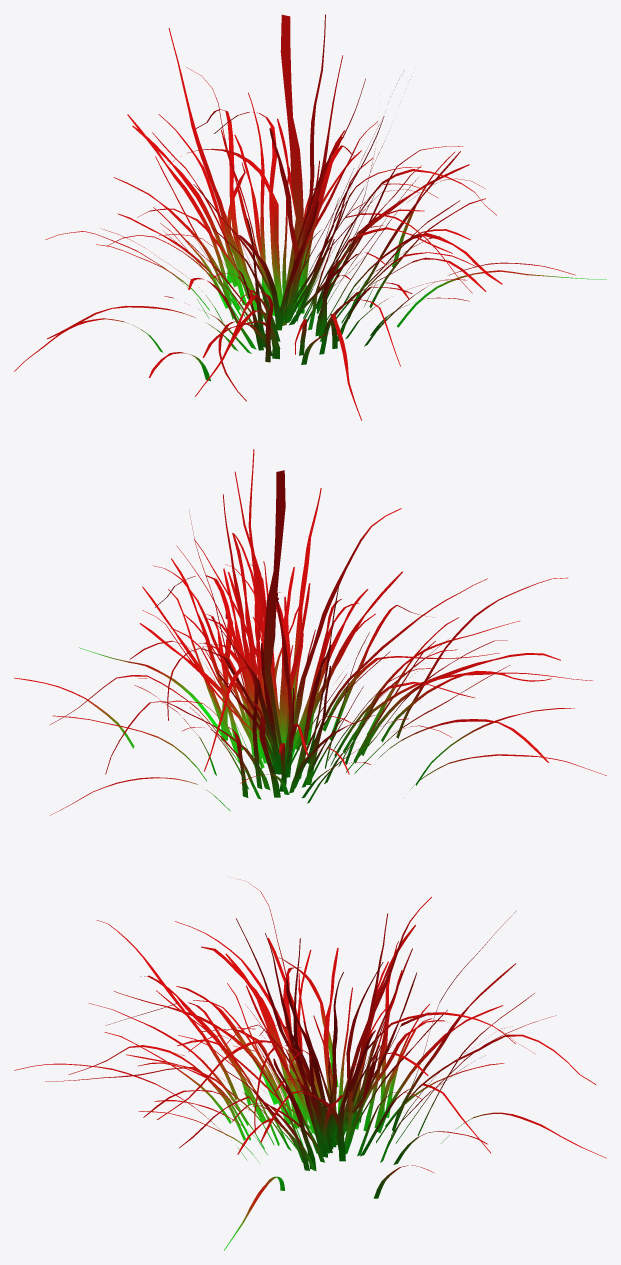
File: Var11_LOD0.fbx
The picture shows the model from 3 angles, top to bottom: view 1: azimuth 30°, elevation 25°; view 2: azimuth 150°, elevation 25°; view 3: azimuth 270°, elevation 25°; orthographic projection. The views are drawn at different scales.
Parts seen in each view (by area): view 1: _o7ih_Var11_LOD0; view 2: _o7ih_Var11_LOD0; view 3: _o7ih_Var11_LOD0.
Boxes of the visible parts, bbox=[...] form: _o7ih_Var11_LOD0: bbox=[14, 14, 606, 420]; _o7ih_Var11_LOD0: bbox=[14, 449, 606, 815]; _o7ih_Var11_LOD0: bbox=[14, 879, 606, 1250].
Size of the model in its own units: 24.74 by 13.31 by 23.13.
